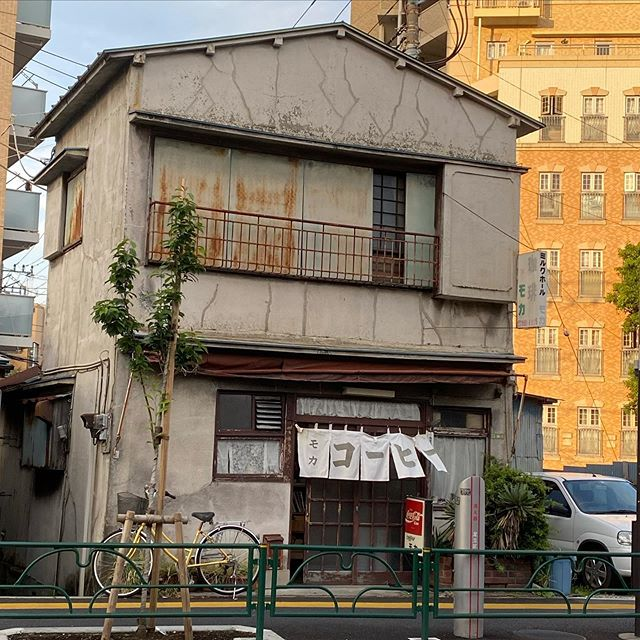bicicle: (88, 502, 282, 597)
building: (52, 37, 524, 588), (493, 1, 640, 479)
door: (299, 442, 422, 576)
